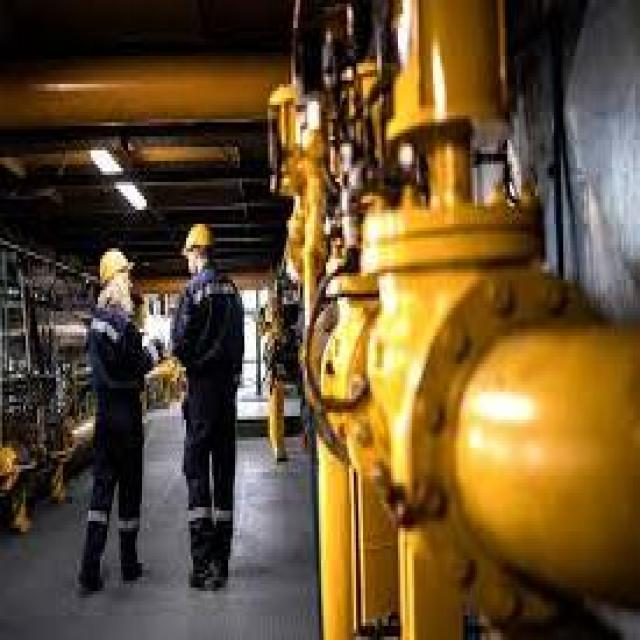Reflective-Jacket: (82, 290, 154, 416)
Safety-Helmet: (91, 238, 137, 294), (177, 217, 221, 262)
